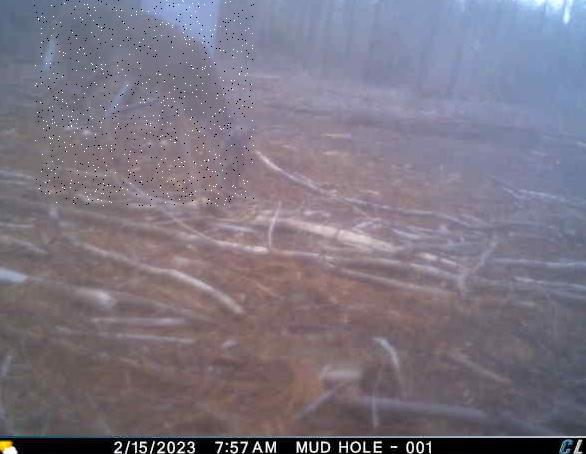Deer: (34, 0, 254, 206)
